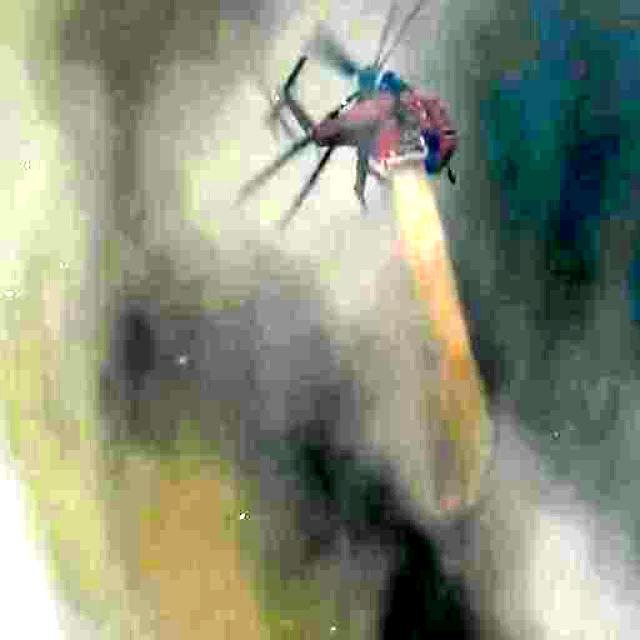drone: (258, 0, 472, 240)
